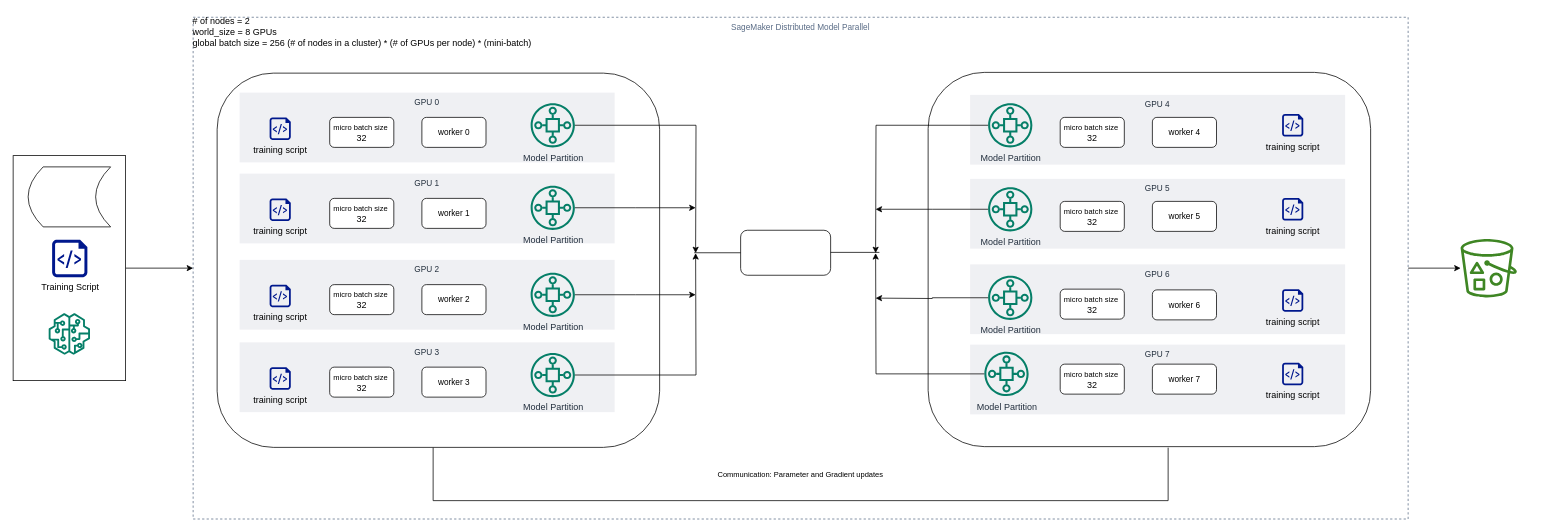
This 1547x532 diagram has some shape labels left out. Each missing label, with the centre of its shape:
Automatic Pipeline Scheduling: pixel 785 252
Full Model: pixel 69 333
Trained Model Artifacts: pixel 1488 267
Training Data: pixel 69 196
